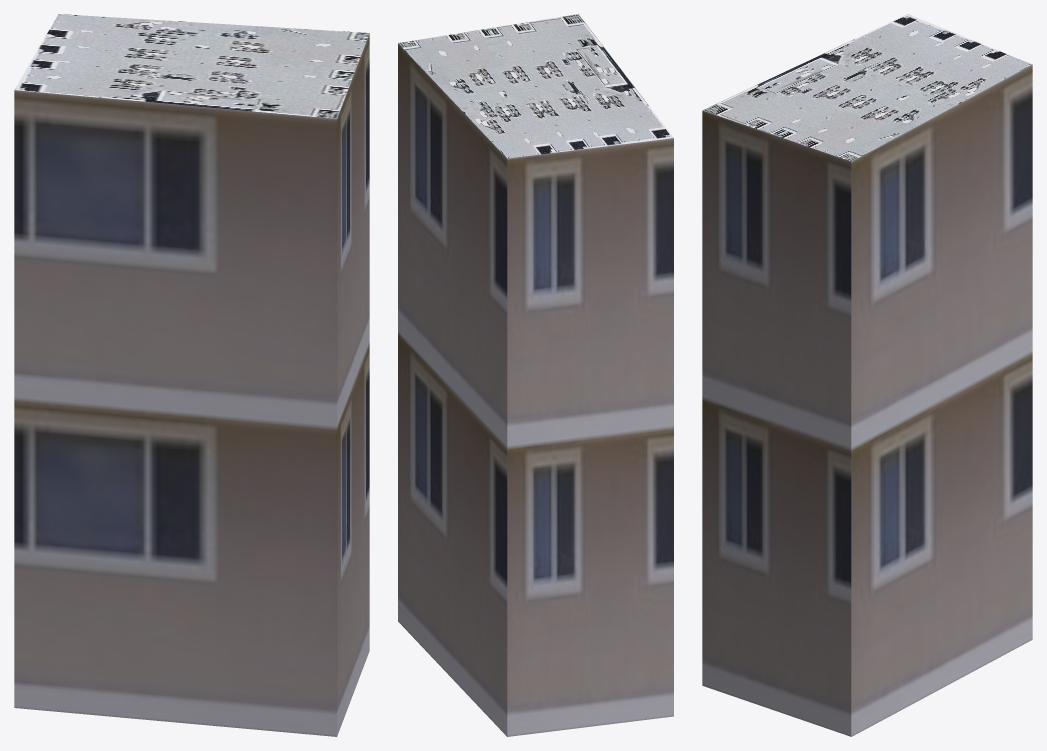
The model's file is ResTex__2905.fbx.
The picture shows the model from 3 angles, left to right: view 1: azimuth 30°, elevation 25°; view 2: azimuth 150°, elevation 25°; view 3: azimuth 270°, elevation 25°; orthographic projection. The views are drawn at different scales.
Visible parts, largest first — view 1: CityEngineMaterial_21_m, CityEngineMaterial_m; view 2: CityEngineMaterial_21_m, CityEngineMaterial_m; view 3: CityEngineMaterial_21_m, CityEngineMaterial_m.
Part boxes in pixels (box(x1,y1,x2,y2)): CityEngineMaterial_21_m: box(14, 34, 369, 736); CityEngineMaterial_m: box(14, 14, 369, 118); CityEngineMaterial_21_m: box(398, 43, 673, 736); CityEngineMaterial_m: box(398, 14, 673, 158); CityEngineMaterial_21_m: box(702, 64, 1032, 736); CityEngineMaterial_m: box(702, 14, 1032, 161).
Size of the model in its own units: 3.3 by 6 by 3.12.
Materials: 2 (2 with a texture image).
